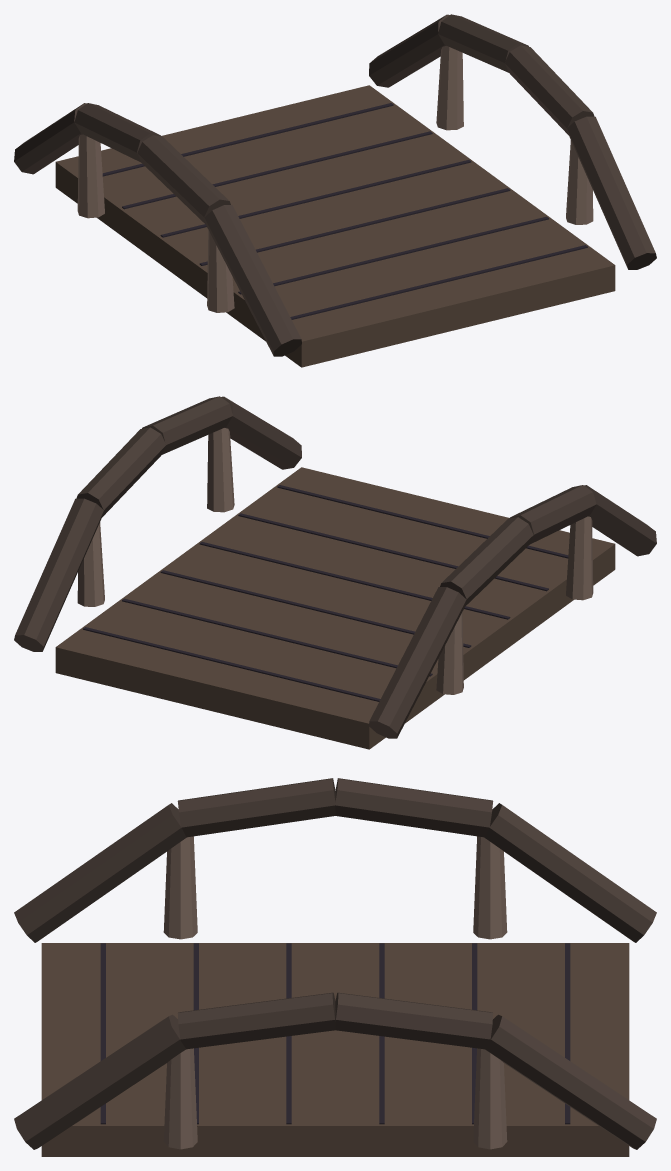
File: HauntedWoods_RootBridge_Standard.glb
3 views of the same model, one above another, from view 1: azimuth 30°, elevation 25°; view 2: azimuth 150°, elevation 25°; view 3: azimuth 270°, elevation 25° (orthographic). The views are drawn at different scales.
Visible parts, largest first — view 1: HauntedWoods_RootBridge_Standard; view 2: HauntedWoods_RootBridge_Standard; view 3: HauntedWoods_RootBridge_Standard.
Boxes of the visible parts, x1,y1,x2,y2 form: HauntedWoods_RootBridge_Standard: (14, 14, 656, 367); HauntedWoods_RootBridge_Standard: (14, 396, 656, 749); HauntedWoods_RootBridge_Standard: (14, 778, 656, 1156).
Size of the model in its own units: 3.54 by 1.28 by 4.16.
